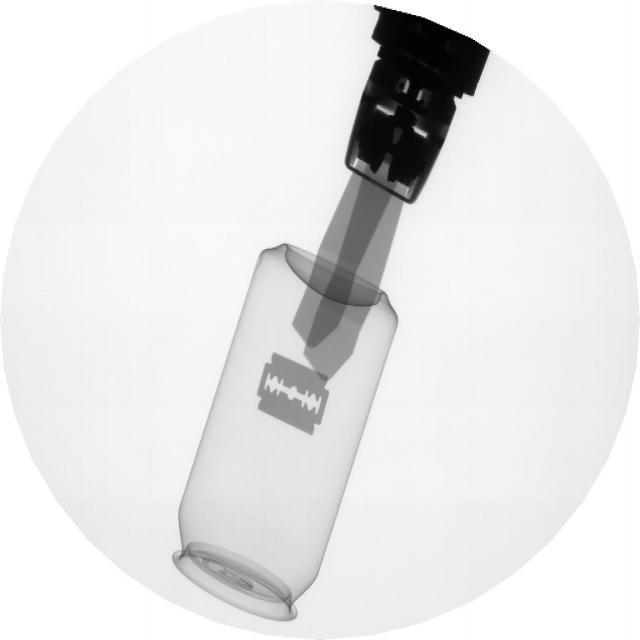BLADE: (253, 346, 337, 443)
